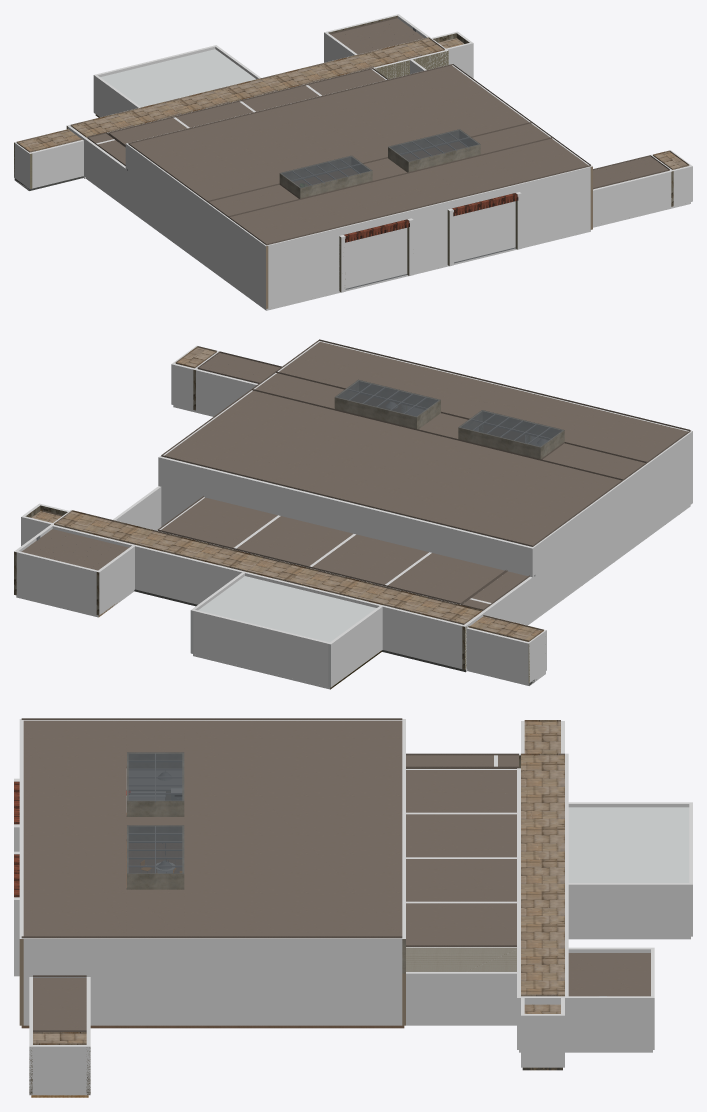
3 views of the same model, one above another, from view 1: azimuth 30°, elevation 25°; view 2: azimuth 150°, elevation 25°; view 3: azimuth 270°, elevation 25° (orthographic). The views are drawn at different scales.
Visible parts, largest first — view 1: S_ceiling, COL, S_concrete_panels, S_cold_panel, S_plaster_white, S_glass_dark, S_concrete_wall, S_painted_metal, S_steel_dark, S_terrazzo; view 2: S_ceiling, COL, S_concrete_panels, S_cold_panel, S_plaster_white, S_glass_dark, S_plaster_worn, S_steel_dark, S_plaster_beige; view 3: S_ceiling, COL, S_concrete_panels, S_cold_panel, S_glass_dark, S_plaster_white, S_wall_tiles, S_terrazzo, S_steel_dark, S_plaster_beige.
Part boxes in pixels (x1=…): S_ceiling: x1=87, y1=17, x2=669, y2=245; COL: x1=14, y1=14, x2=692, y2=310; S_concrete_panels: x1=16, y1=37, x2=689, y2=169; S_cold_panel: x1=100, y1=49, x2=255, y2=107; S_plaster_white: x1=279, y1=129, x2=480, y2=198; S_glass_dark: x1=280, y1=129, x2=480, y2=188; S_concrete_wall: x1=14, y1=50, x2=517, y2=292; S_painted_metal: x1=344, y1=193, x2=518, y2=242; S_steel_dark: x1=127, y1=27, x2=515, y2=289; S_terrazzo: x1=294, y1=142, x2=465, y2=185; S_ceiling: x1=21, y1=339, x2=690, y2=610; COL: x1=14, y1=341, x2=692, y2=689; S_concrete_panels: x1=31, y1=346, x2=543, y2=641; S_cold_panel: x1=190, y1=576, x2=376, y2=687; S_plaster_white: x1=334, y1=380, x2=564, y2=459; S_glass_dark: x1=335, y1=379, x2=564, y2=447; S_plaster_worn: x1=14, y1=369, x2=464, y2=669; S_steel_dark: x1=36, y1=384, x2=552, y2=576; S_plaster_beige: x1=351, y1=394, x2=524, y2=442; S_ceiling: x1=21, y1=718, x2=650, y2=1031; COL: x1=14, y1=719, x2=692, y2=1095; S_concrete_panels: x1=33, y1=720, x2=564, y2=1044; S_cold_panel: x1=568, y1=807, x2=689, y2=882; S_glass_dark: x1=127, y1=752, x2=184, y2=873; S_plaster_white: x1=127, y1=752, x2=405, y2=973; S_wall_tiles: x1=406, y1=947, x2=516, y2=971; S_terrazzo: x1=21, y1=813, x2=404, y2=1028; S_steel_dark: x1=33, y1=753, x2=606, y2=996; S_plaster_beige: x1=19, y1=939, x2=405, y2=1025.
Size of what is drawn, in the model's own units: 40.3 by 6.12 by 35.5.
89 materials, 46 textured.
